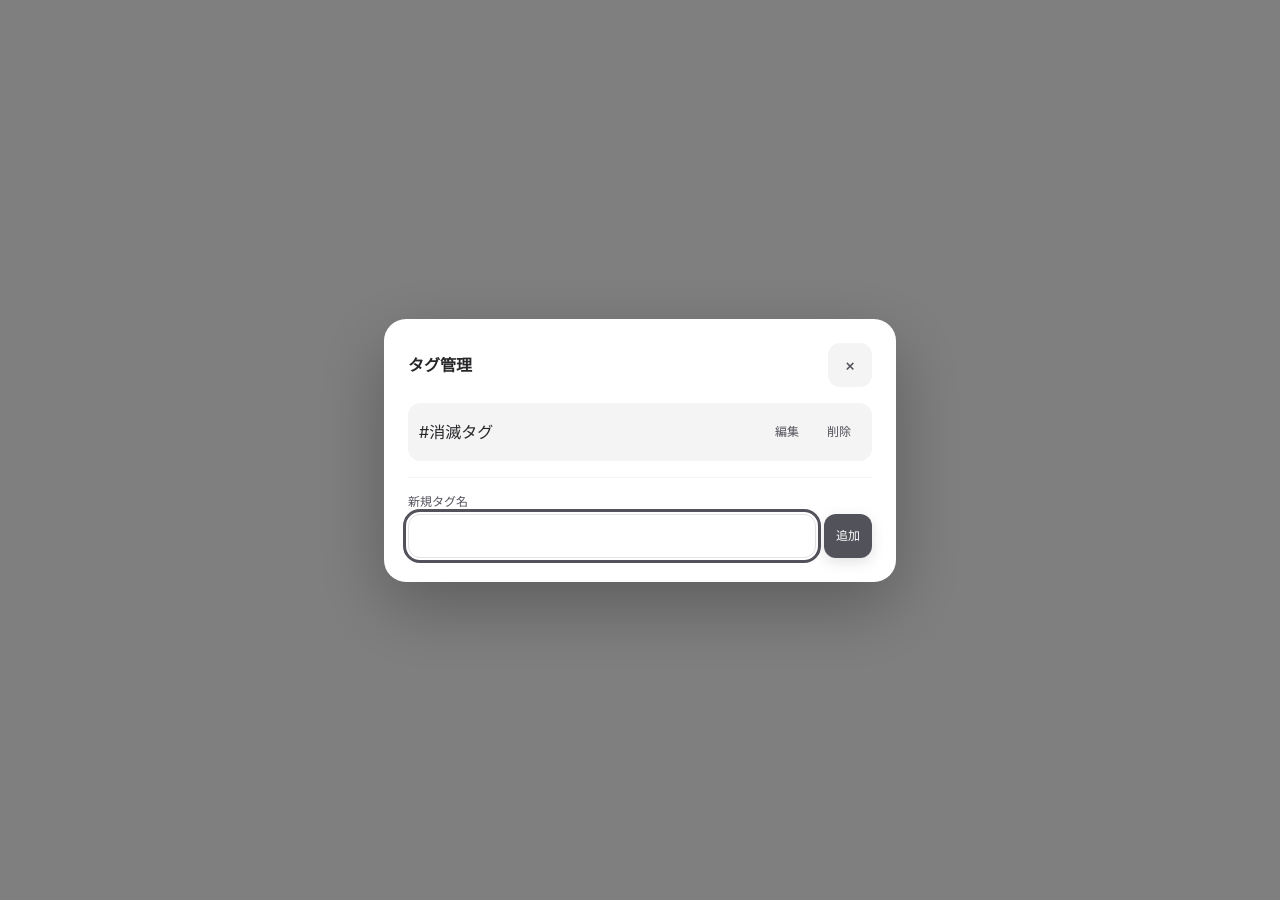
Scenario: TagManagementModal › shows a toast and refetches when the rename target no longer exists (404)
This screenshot has width=1280, height=900.
Click the button with aria-label "「消滅タグ」を編集".
click(787, 432)  # box top-left (765, 410), bottom-right (809, 454)
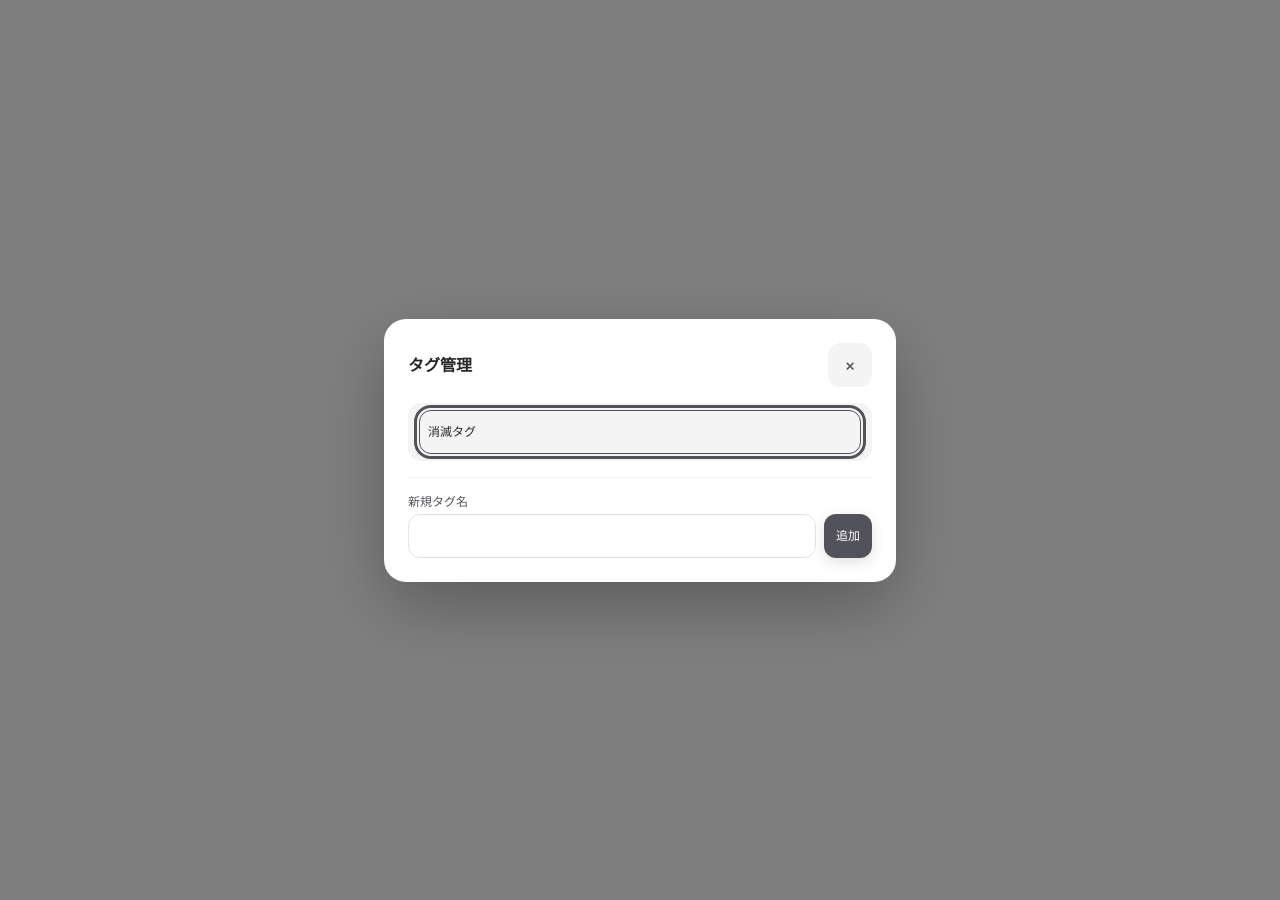
Replace the text in the field named "「消滅タグ」の名前を編集" with "新名" at (640, 432), box top-left (419, 410), bottom-right (861, 454)
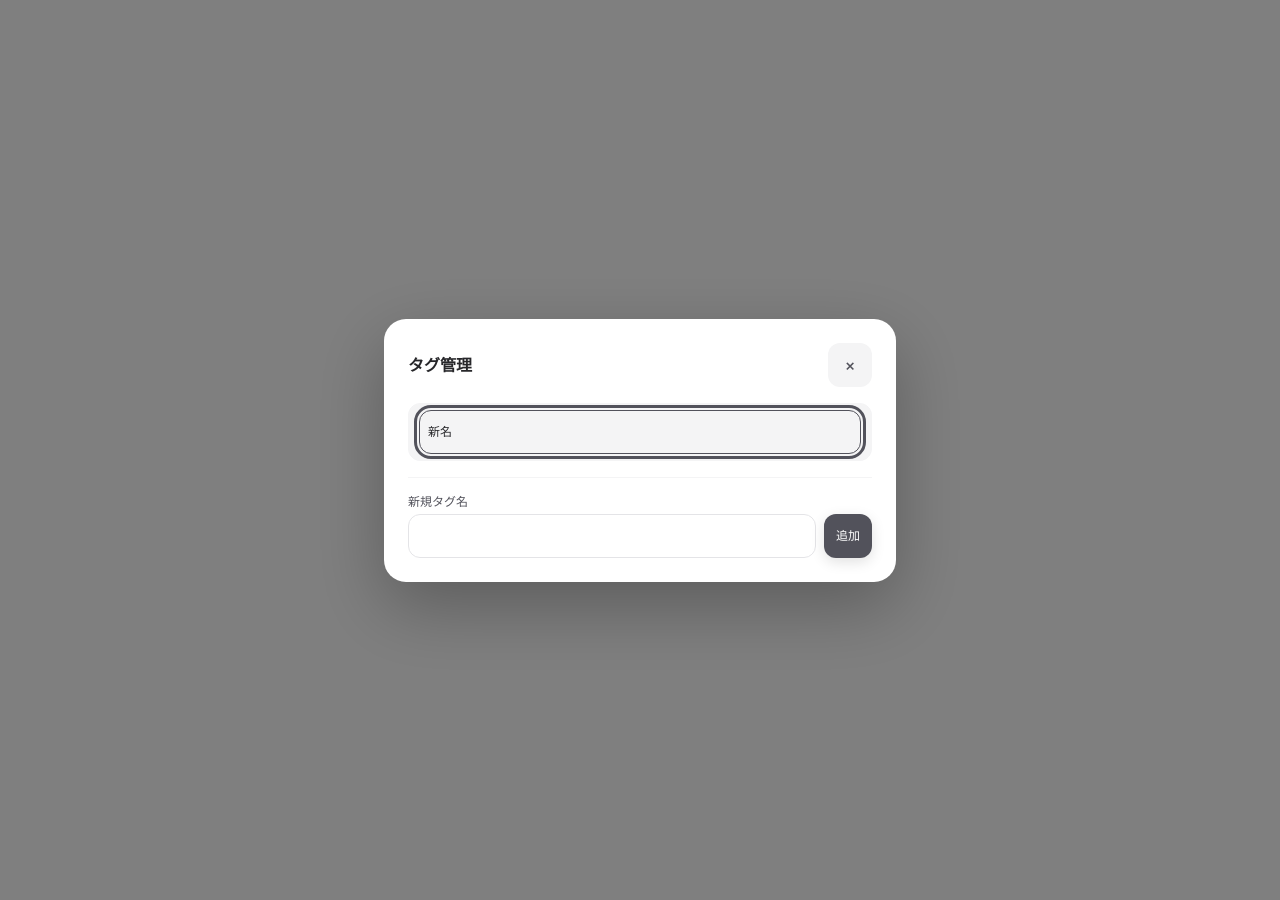
Press Enter
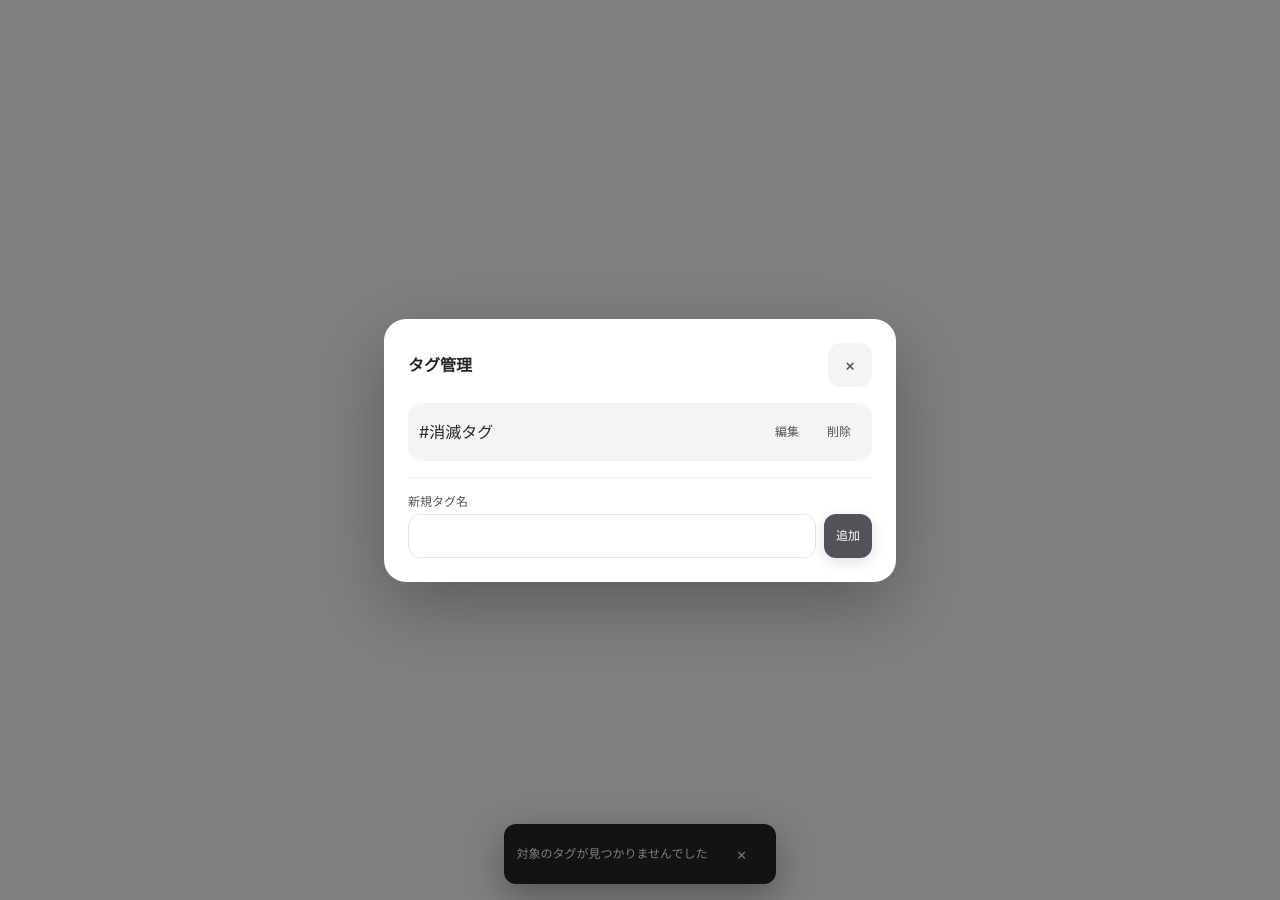
Expected: the text "対象のタグが見つかりませんでした" is shown, top-left (516, 846), bottom-right (708, 862)
